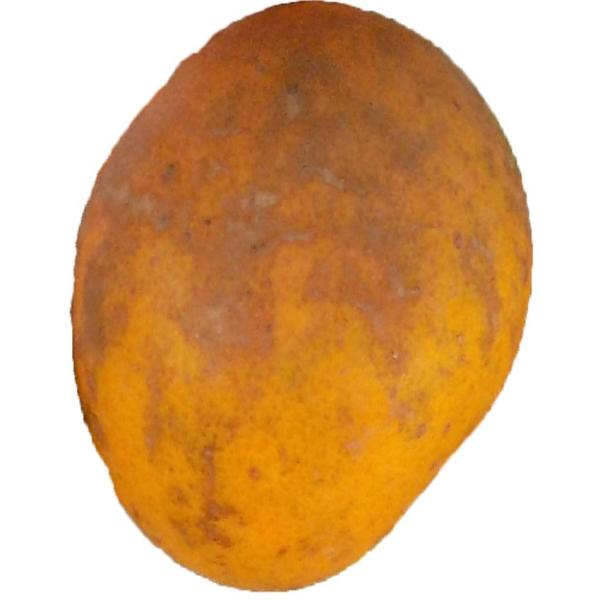Canker: (61, 0, 556, 596)
